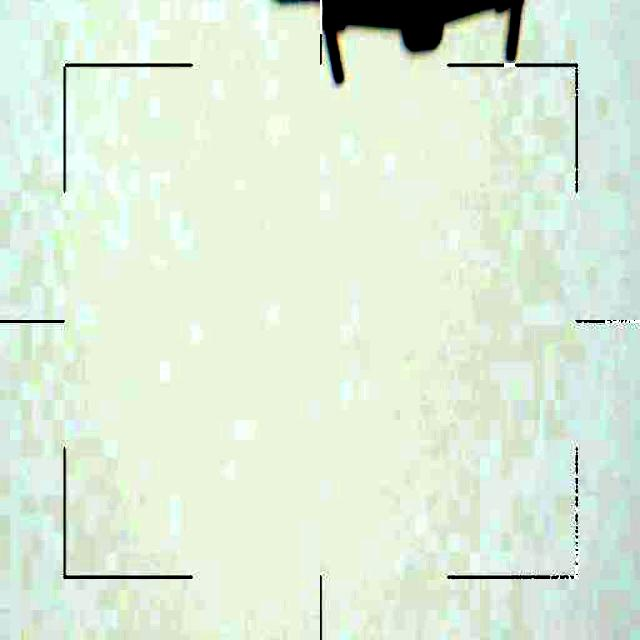bird: (266, 0, 589, 86)
